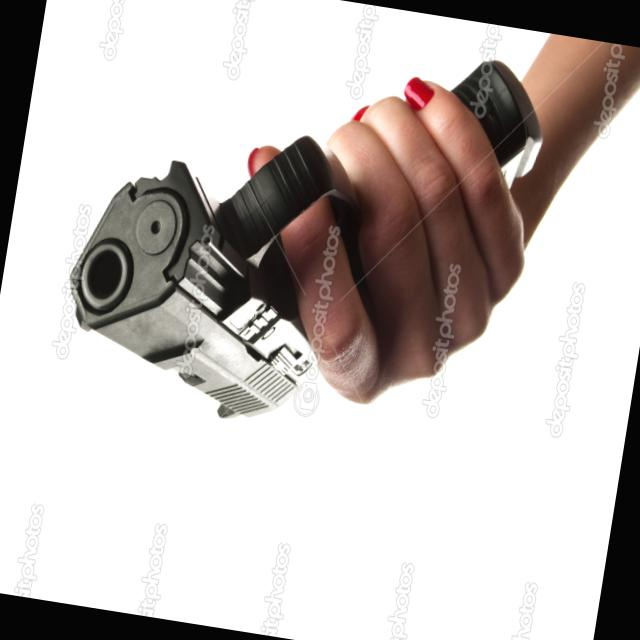handgun: (49, 3, 564, 476)
